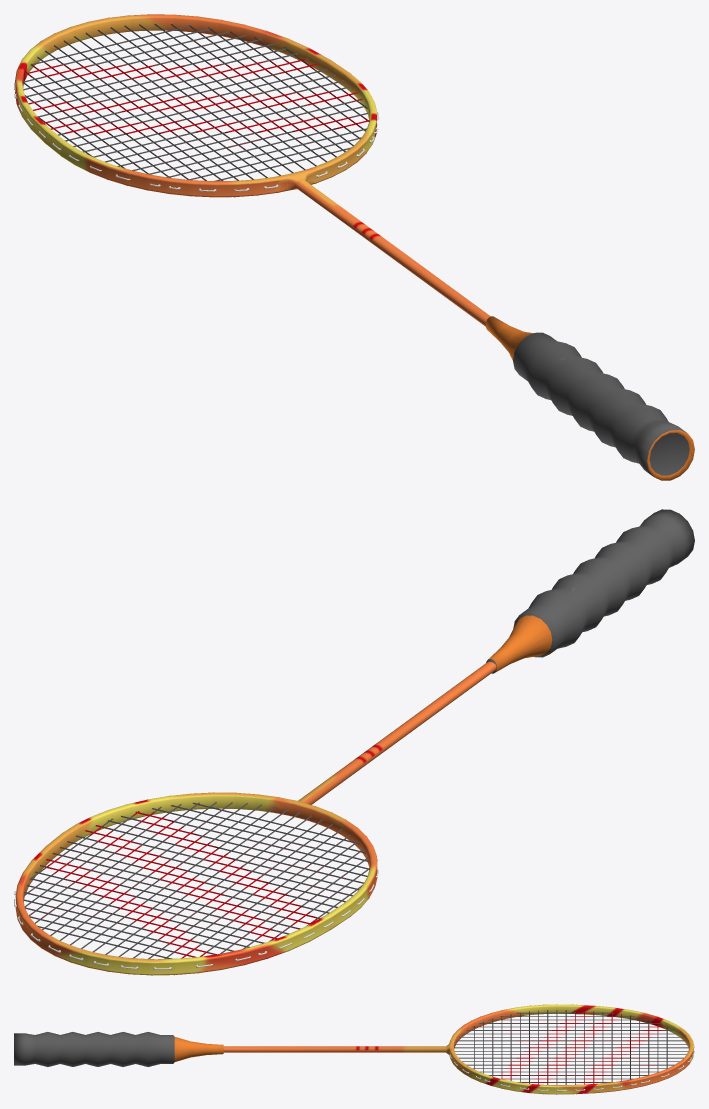
Rendered from Racquetr.fbx.
The picture shows the model from 3 angles, top to bottom: view 1: azimuth 30°, elevation 25°; view 2: azimuth 150°, elevation 25°; view 3: azimuth 270°, elevation 25°; orthographic projection. The views are drawn at different scales.
Parts seen in each view (by area): view 1: handle.001; view 2: handle.001; view 3: handle.001.
Part boxes in pixels (left/top/right/bottom): handle.001: left=14, top=14, right=694, bottom=480; handle.001: left=14, top=509, right=694, bottom=975; handle.001: left=14, top=1004, right=694, bottom=1094.
Size of the model in its own units: 18.08 by 3.25 by 62.48.
